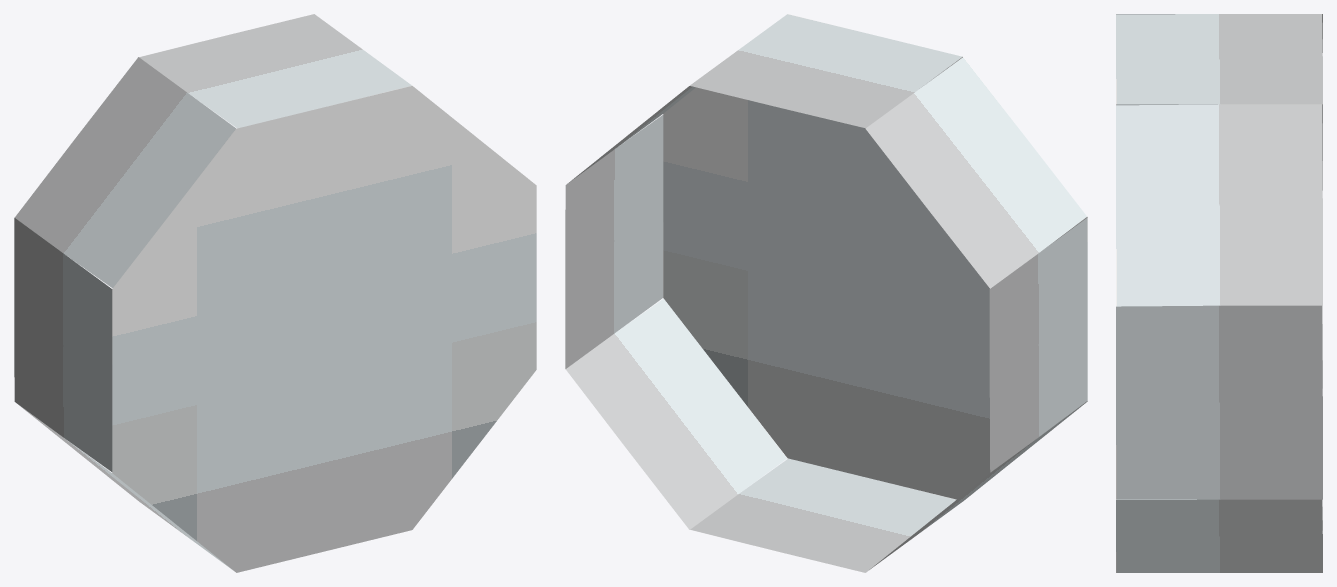
The model's file is Big_button.glb.
The picture shows the model from 3 angles, left to right: view 1: azimuth 30°, elevation 25°; view 2: azimuth 150°, elevation 25°; view 3: azimuth 270°, elevation 25°; orthographic projection. The views are drawn at different scales.
Visible parts, largest first — view 1: bigbutton; view 2: bigbutton; view 3: bigbutton.
Part boxes in pixels (<box>): bigbutton: <box>14,14,536,572</box>; bigbutton: <box>565,14,1087,572</box>; bigbutton: <box>1116,14,1322,572</box>.
Bounding box in the file's own units: 0.3125 × 0.3125 × 0.125.
1 material, 1 textured.
